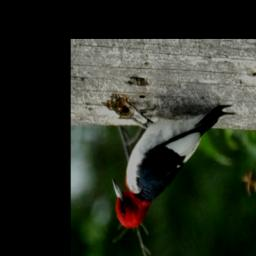Woodpecker: (111, 104, 233, 229)
